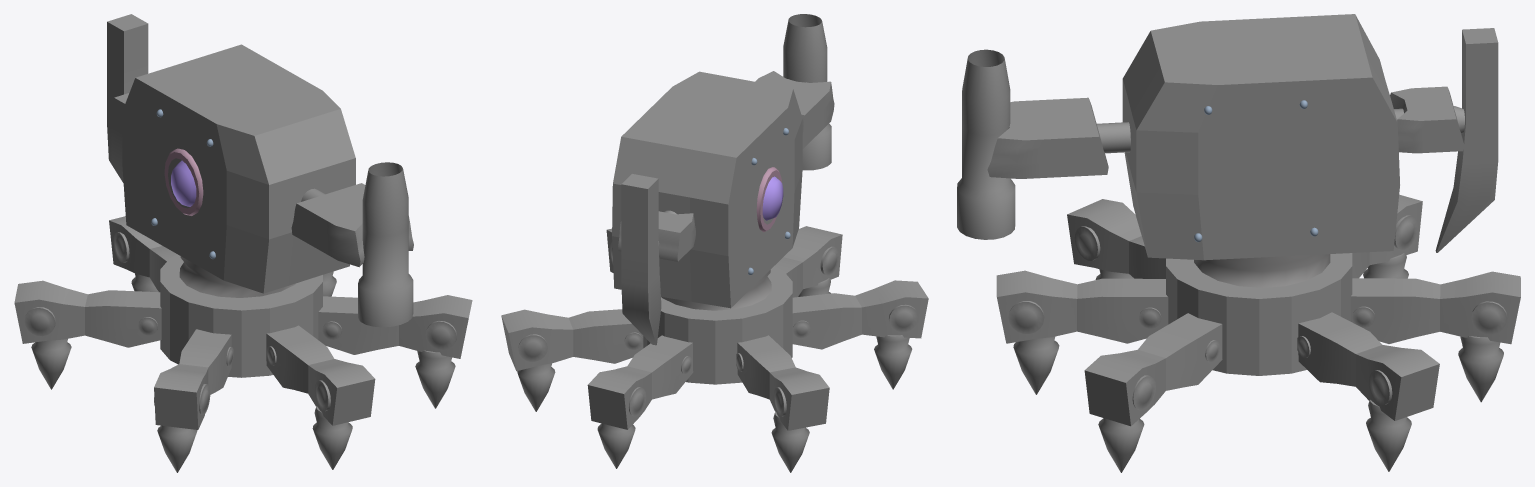
Rendered from red robot updated.FBX.
3 renders of one model, left to right at view 1: azimuth 30°, elevation 25°; view 2: azimuth 150°, elevation 25°; view 3: azimuth 270°, elevation 25°, orthographic. The views are drawn at different scales.
Visible parts, largest first — view 1: head, left weapon, body, right weapon, Object023, Object022, Object010, Object016, Object013, Object017, Object011, Object014 (+9 smaller); view 2: head, right weapon, body, left weapon, Object019, Object014, Object013, Object007, Object020, Object022, Object008, Object010 (+9 smaller); view 3: head, left weapon, body, right weapon, Object011, Object008, Object019, Object010, Object007, Object016, Object013, Object017 (+9 smaller).
Part boxes in pixels (x1=…): head: x1=122, y1=44, x2=355, y2=293; left weapon: x1=291, y1=162, x2=413, y2=327; body: x1=160, y1=254, x2=322, y2=377; right weapon: x1=107, y1=14, x2=148, y2=182; Object023: x1=85, y1=290, x2=161, y2=347; Object022: x1=14, y1=280, x2=87, y2=343; Object010: x1=308, y1=359, x2=375, y2=425; Object016: x1=399, y1=295, x2=472, y2=358; Object013: x1=154, y1=364, x2=210, y2=429; Object017: x1=318, y1=296, x2=398, y2=354; Object011: x1=266, y1=325, x2=334, y2=393; Object014: x1=179, y1=329, x2=233, y2=394; head: x1=612, y1=71, x2=802, y2=308; right weapon: x1=618, y1=174, x2=695, y2=345; body: x1=643, y1=266, x2=792, y2=384; left weapon: x1=755, y1=14, x2=834, y2=170; Object019: x1=501, y1=309, x2=573, y2=371; Object014: x1=792, y1=293, x2=861, y2=349; Object013: x1=855, y1=280, x2=928, y2=338; Object007: x1=587, y1=366, x2=651, y2=429; Object020: x1=569, y1=309, x2=643, y2=363; Object022: x1=769, y1=367, x2=829, y2=430; Object008: x1=627, y1=335, x2=693, y2=399; Object010: x1=783, y1=226, x2=842, y2=289; head: x1=1122, y1=14, x2=1399, y2=260; left weapon: x1=957, y1=49, x2=1130, y2=239; body: x1=1166, y1=253, x2=1352, y2=375; right weapon: x1=1390, y1=28, x2=1498, y2=252; Object011: x1=1077, y1=278, x2=1168, y2=343; Object008: x1=1350, y1=278, x2=1440, y2=343; Object019: x1=1355, y1=345, x2=1439, y2=420; Object010: x1=996, y1=270, x2=1077, y2=343; Object007: x1=1440, y1=271, x2=1520, y2=344; Object016: x1=1084, y1=349, x2=1165, y2=426; Object013: x1=1067, y1=199, x2=1141, y2=273; Object017: x1=1138, y1=313, x2=1222, y2=390.
Size of the model in its own units: 54.97 by 46.85 by 67.73.
